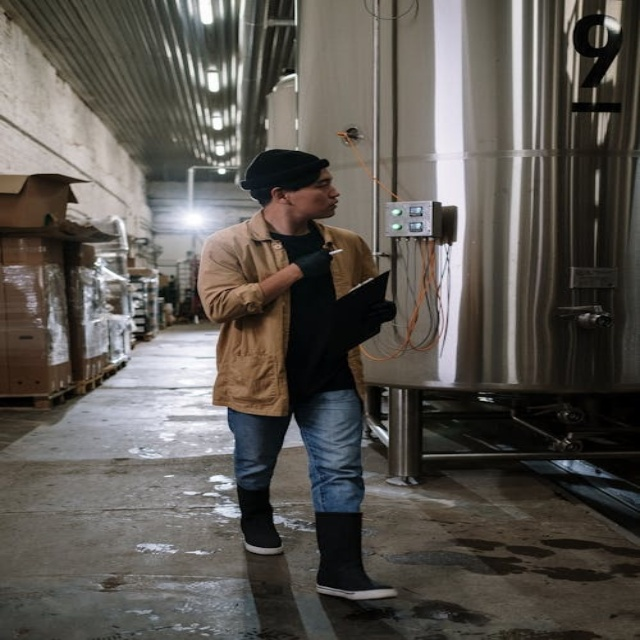Guantes: (290, 248, 333, 281), (364, 299, 397, 332)
Sin_gafas: (306, 176, 338, 191)
Sin_mascara: (308, 196, 347, 216)
